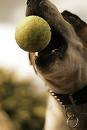tennis ball: (13, 15, 55, 54)
